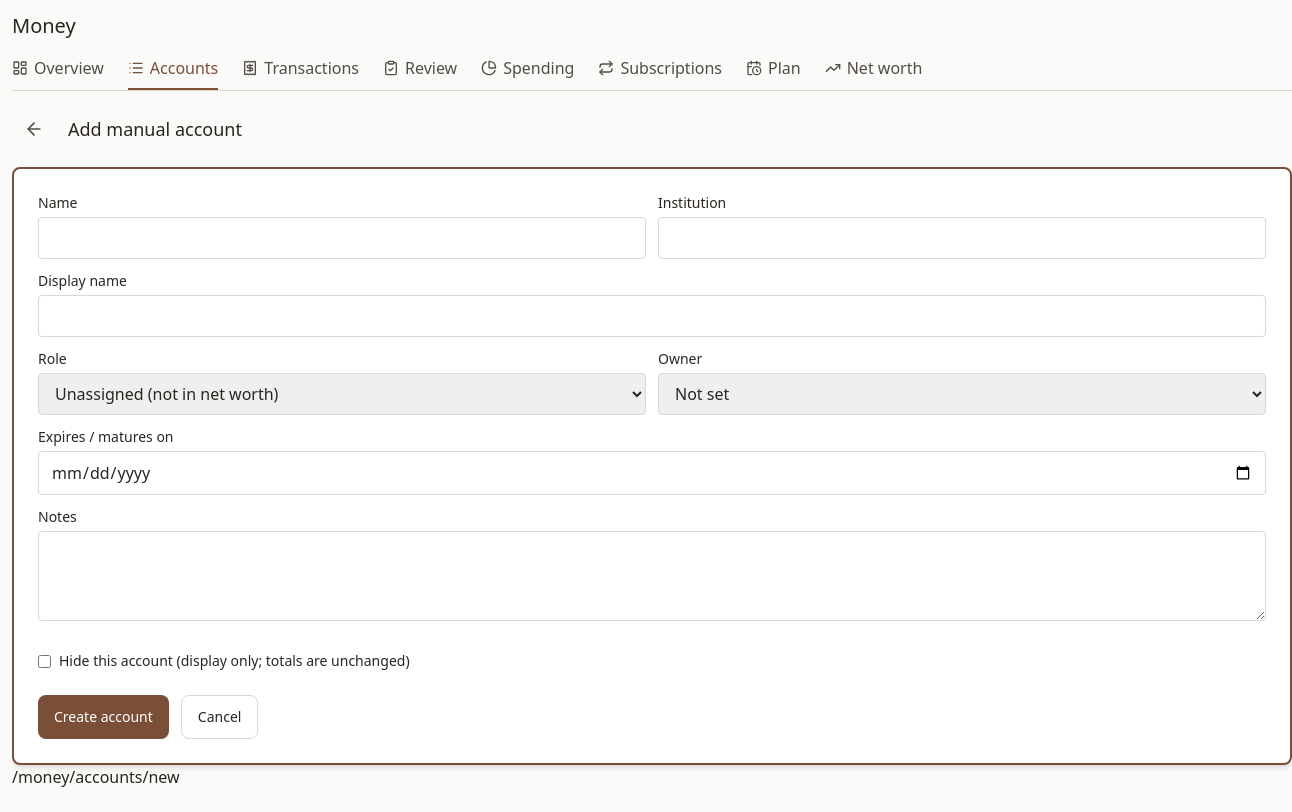
routes the tabs and the add form by URL
Expected: the heading "Add manual account" is shown, top-left (68, 115), bottom-right (242, 143)
Click the tab "Net worth" at {"x": 874, "y": 73}, box top-left (825, 56), bottom-right (922, 90)
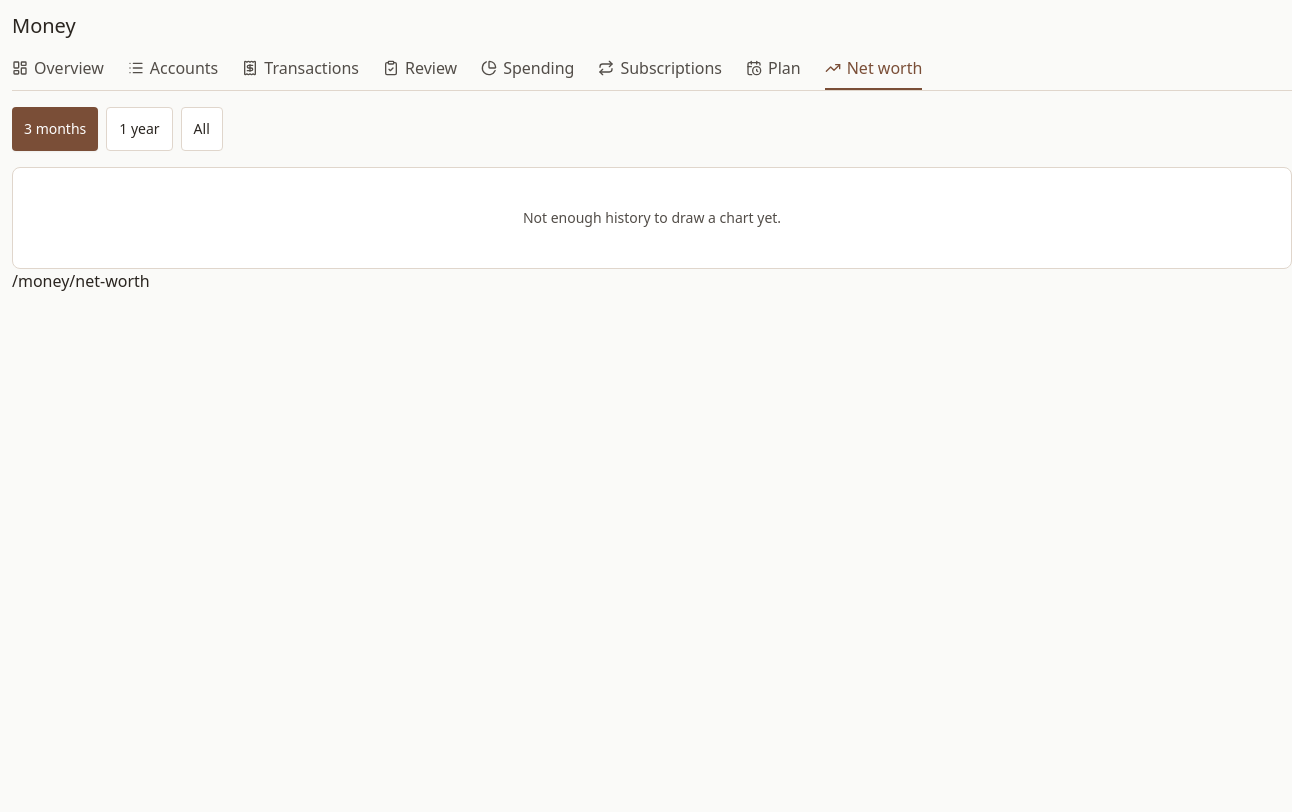
Result: the text with test id "where" reads "/money/net-worth" at top-left (12, 270), bottom-right (150, 292)
Result: the text "Not enough history to draw a chart yet." is shown at top-left (523, 208), bottom-right (781, 227)
